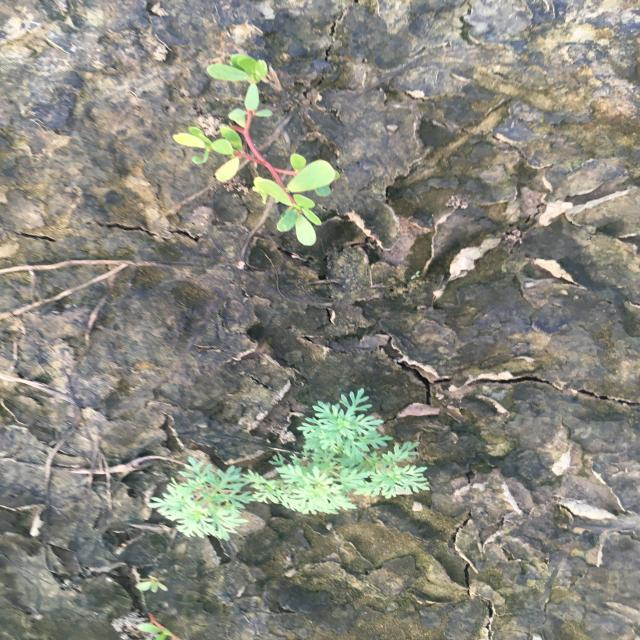Purslane: (172, 52, 342, 247)
Ragweed: (239, 387, 433, 517), (145, 455, 259, 541)
